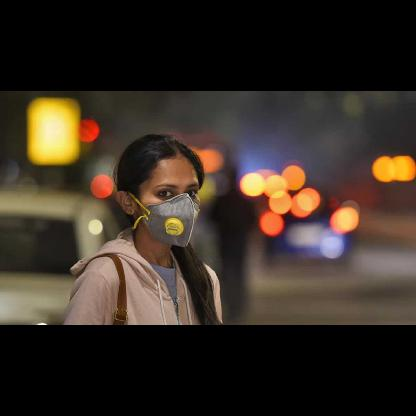FFP Mask: (114, 136, 209, 252)
